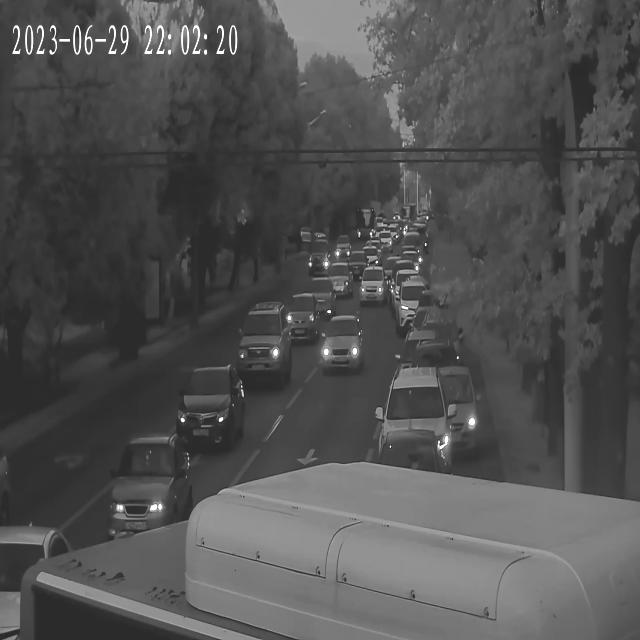Bus: (7, 487, 640, 640)
Car: (373, 361, 473, 470), (106, 431, 198, 535), (2, 530, 68, 640), (168, 364, 247, 444), (231, 306, 296, 386), (318, 318, 366, 375), (402, 339, 460, 384), (0, 429, 26, 528), (394, 281, 441, 333), (275, 293, 322, 341), (414, 314, 464, 358), (405, 304, 450, 344), (297, 278, 339, 320), (387, 270, 427, 306), (316, 266, 356, 301), (357, 266, 392, 306), (384, 255, 416, 281), (340, 250, 368, 277), (398, 234, 422, 257), (308, 252, 332, 274), (398, 248, 422, 269), (356, 243, 379, 264), (335, 240, 355, 258), (375, 232, 393, 250)
